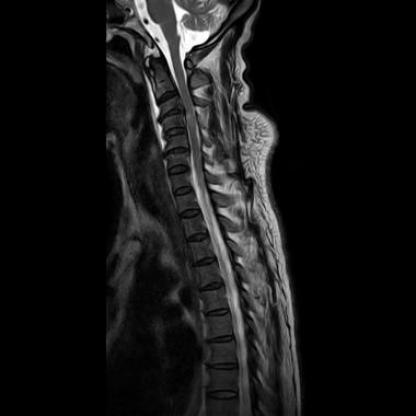Disc Protrusionrotation: (155, 105, 188, 122)
